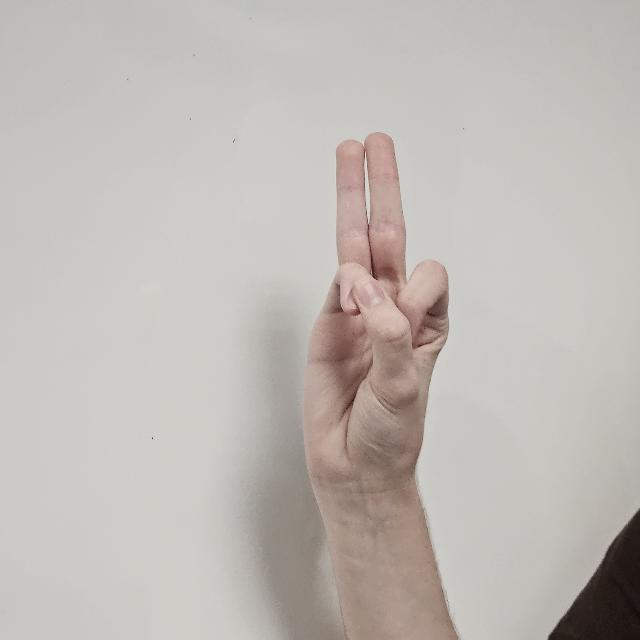R: (306, 128, 449, 506)
